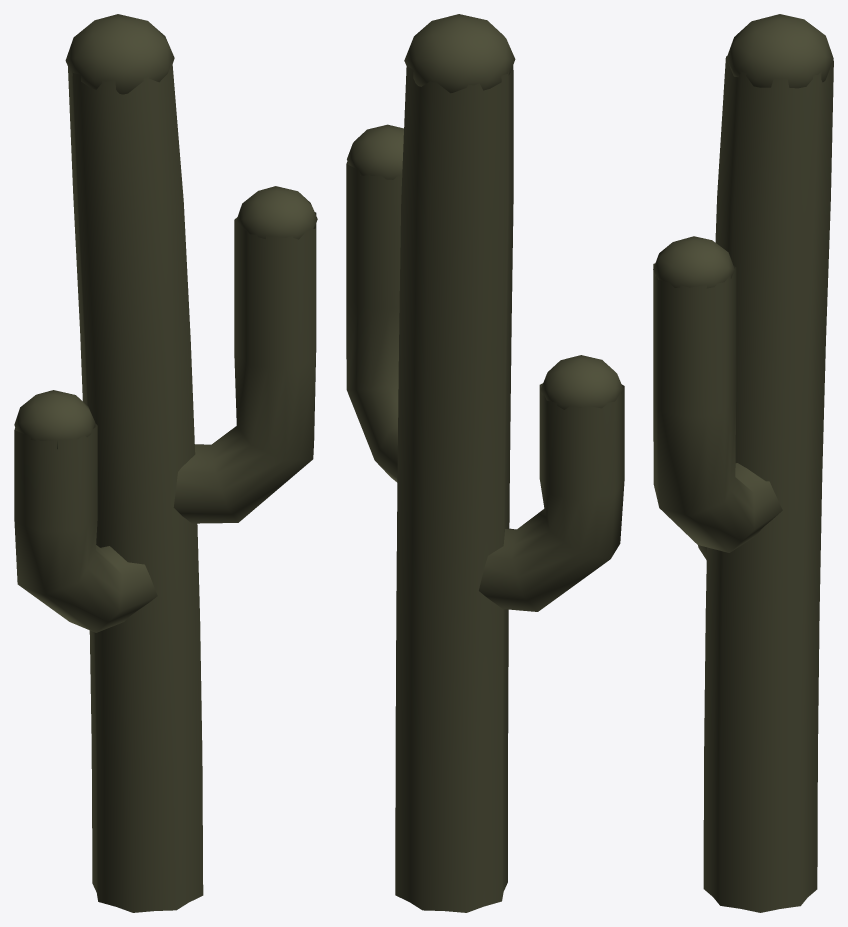
File: saguaro_2_burnt2.glb
3 views of the same model, side by side, from view 1: azimuth 30°, elevation 25°; view 2: azimuth 150°, elevation 25°; view 3: azimuth 270°, elevation 25° (orthographic). The views are drawn at different scales.
Parts seen in each view (by area): view 1: saguaro_2_burnt2; view 2: saguaro_2_burnt2; view 3: saguaro_2_burnt2.
Part boxes in pixels (x1,y1,x2,y2): saguaro_2_burnt2: [14, 14, 317, 912]; saguaro_2_burnt2: [346, 14, 624, 912]; saguaro_2_burnt2: [653, 14, 833, 912].
Size of the model in its own units: 1.7 by 5.01 by 0.9553.
